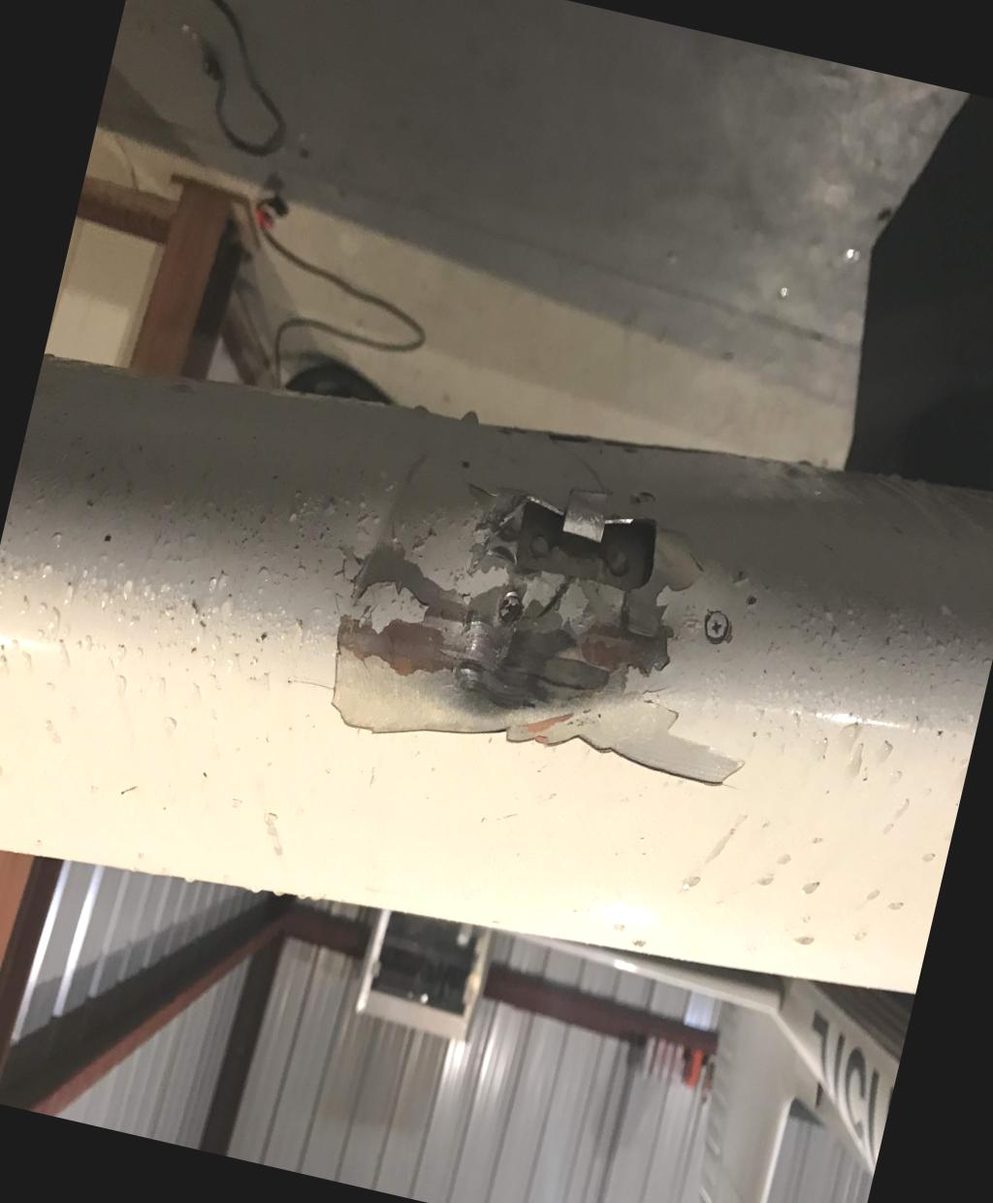dent: (329, 452, 700, 787)
